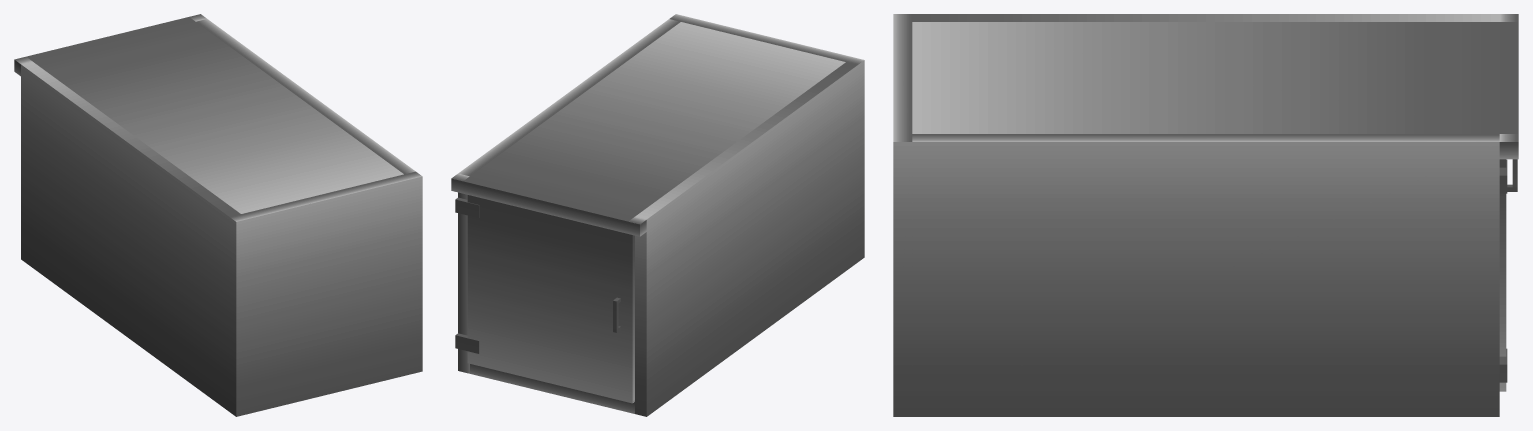
Rendered from corpse_freezer_closed.obj.
3 views of the same model, side by side, from view 1: azimuth 30°, elevation 25°; view 2: azimuth 150°, elevation 25°; view 3: azimuth 270°, elevation 25° (orthographic). The views are drawn at different scales.
Parts seen in each view (by area): view 1: cube; view 2: cube; view 3: cube.
Boxes of the visible parts, left/top/right/bottom form: cube: left=14, top=14, right=422, bottom=416; cube: left=451, top=14, right=864, bottom=416; cube: left=893, top=14, right=1518, bottom=416.
Size of the model in its own units: 1 by 1 by 2.06.
